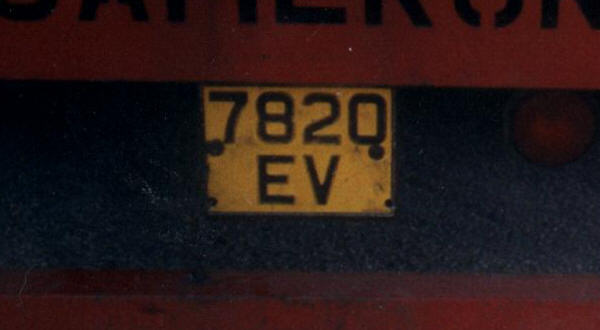license_plate: (199, 85, 397, 218)
